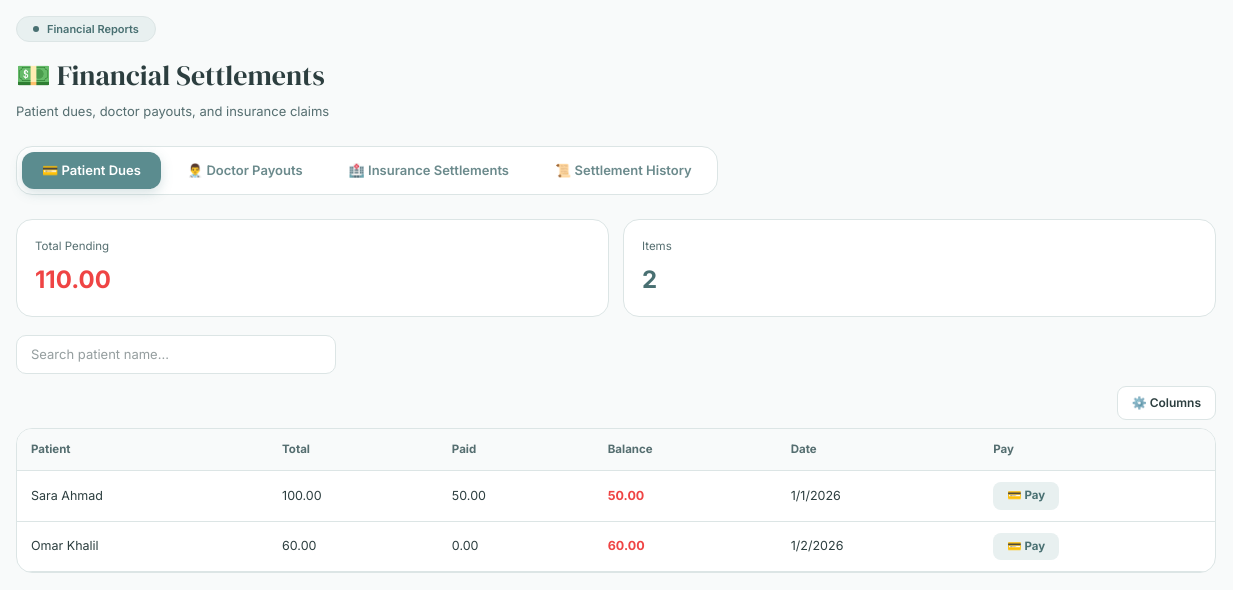
it: Settlements › filters patient dues by name
Check: the text "Sara Ahmad" is shown, box x1=17 y1=471 x2=268 y2=521
Type "Omar" into the field with placeholder "Search patient name..." at (176, 354), box x1=16 y1=334 x2=336 y2=374
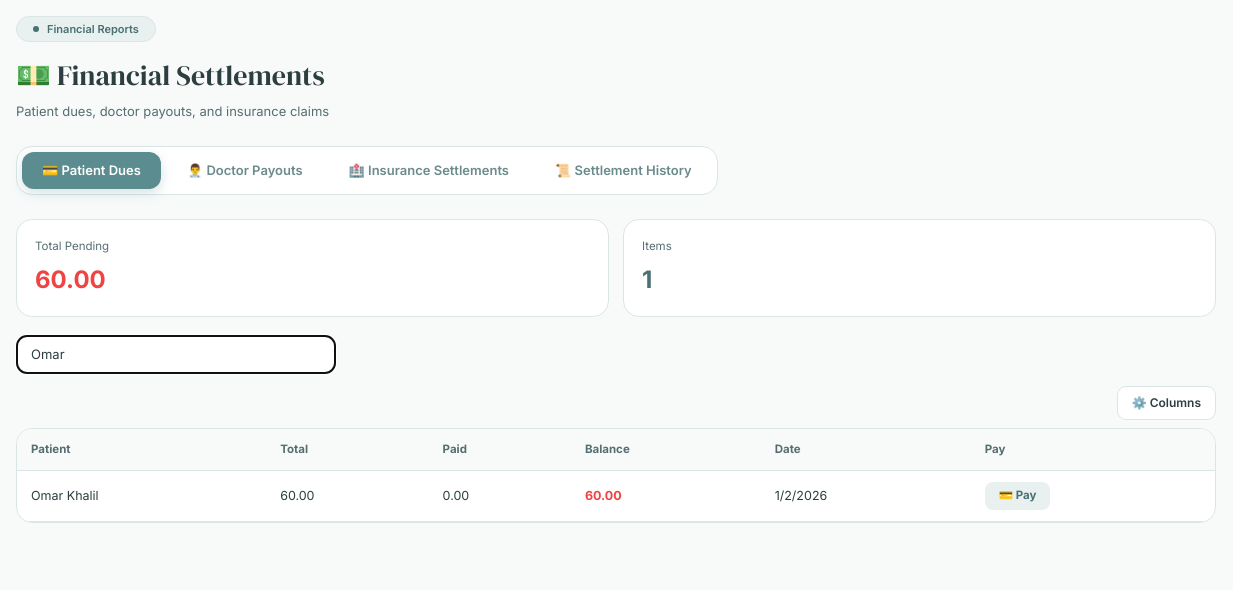
Check: the text "Omar Khalil" is shown, box x1=17 y1=471 x2=266 y2=521
Check: the text "Sara Ahmad" is gone
